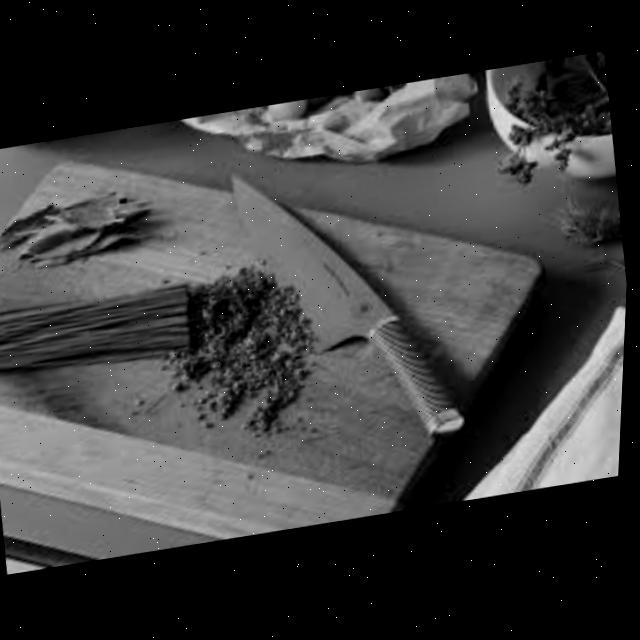Knife: (221, 142, 480, 469)
